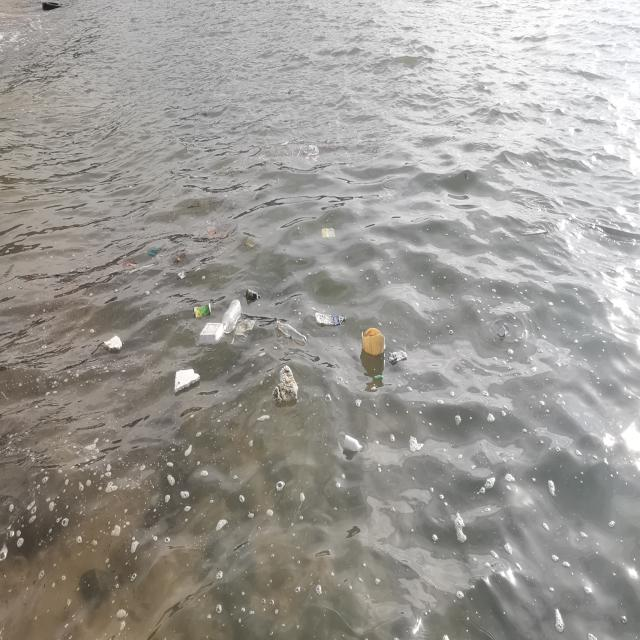can: (194, 301, 212, 320), (497, 325, 506, 338)
foam: (272, 366, 299, 406), (174, 368, 200, 395), (196, 323, 224, 345), (111, 335, 124, 351)
plastic: (276, 321, 307, 345), (222, 298, 240, 334), (315, 311, 346, 326), (344, 434, 362, 453), (388, 349, 408, 365), (245, 289, 261, 301)
plastic bottle: (362, 326, 386, 356), (322, 227, 335, 238), (177, 270, 187, 280)
unknow: (235, 319, 257, 342), (205, 225, 227, 239), (172, 252, 186, 266), (121, 259, 137, 269), (148, 246, 162, 256)
